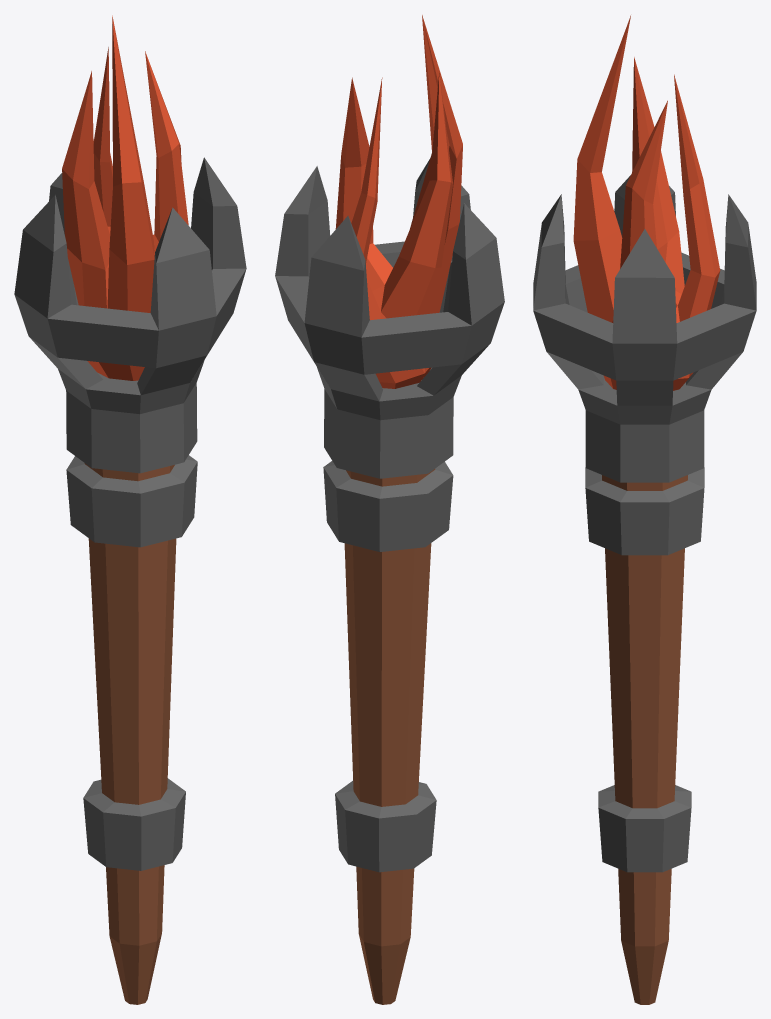
File: Torch.glb
3 renders of one model, left to right at view 1: azimuth 30°, elevation 25°; view 2: azimuth 150°, elevation 25°; view 3: azimuth 270°, elevation 25°, orthographic. The views are drawn at different scales.
Visible parts, largest first — view 1: Torch; view 2: Torch; view 3: Torch.
Boxes of the visible parts, x1,y1,x2,y2 form: Torch: [14, 15, 246, 1004]; Torch: [275, 15, 504, 1004]; Torch: [533, 15, 756, 1004].
Bounding box in the file's own units: 0.4472 × 2.14 × 0.4472.
